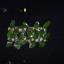leaf: (43, 20, 51, 29), (8, 19, 15, 29), (15, 40, 21, 49), (6, 38, 11, 48), (16, 24, 26, 29), (6, 28, 12, 36), (26, 30, 32, 38), (30, 40, 36, 48), (44, 32, 50, 40), (34, 31, 40, 39), (9, 33, 16, 39), (22, 22, 29, 28), (18, 32, 23, 40), (40, 40, 45, 47), (35, 21, 39, 29)
